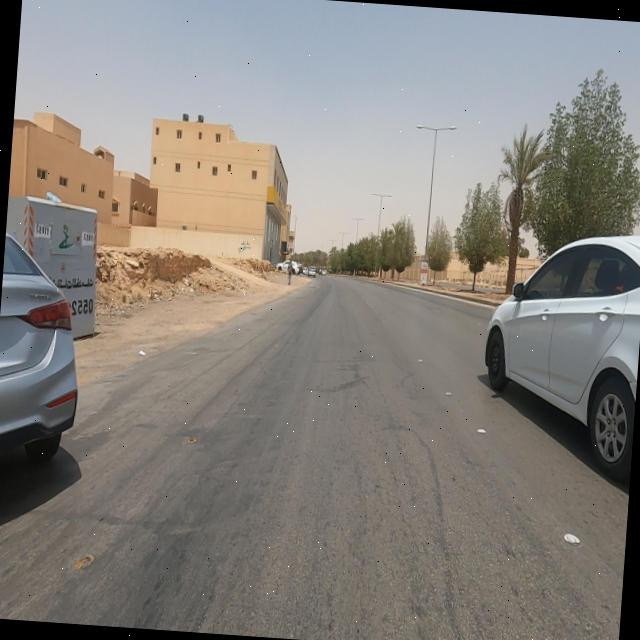Graffiti: (238, 239, 252, 254)
